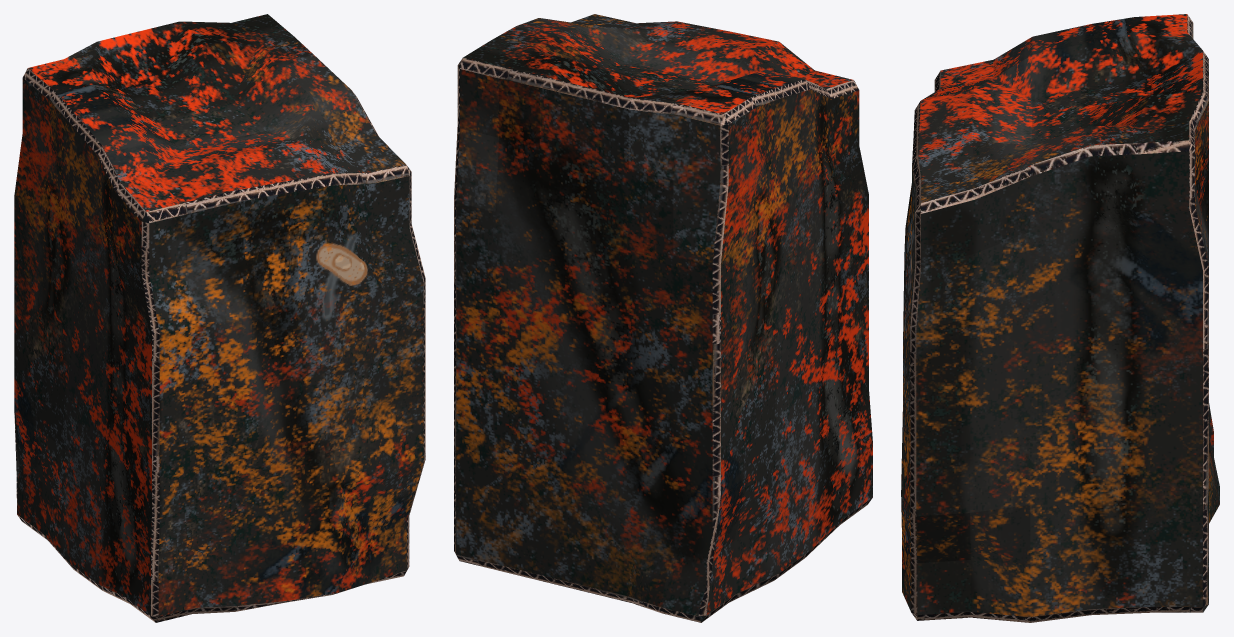
File: blackstone.fbx
3 renders of one model, left to right at view 1: azimuth 30°, elevation 25°; view 2: azimuth 150°, elevation 25°; view 3: azimuth 270°, elevation 25°, orthographic. The views are drawn at different scales.
Parts seen in each view (by area): view 1: stonecardboard.001; view 2: stonecardboard.001; view 3: stonecardboard.001.
Part boxes in pixels (<box>): stonecardboard.001: <box>14,14,425,622</box>; stonecardboard.001: <box>454,14,872,622</box>; stonecardboard.001: <box>901,14,1219,622</box>.
Size of the model in its own units: 221 by 366 by 217.
